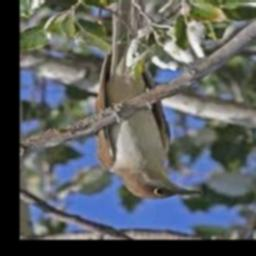Cuckoo: (94, 0, 200, 198)
